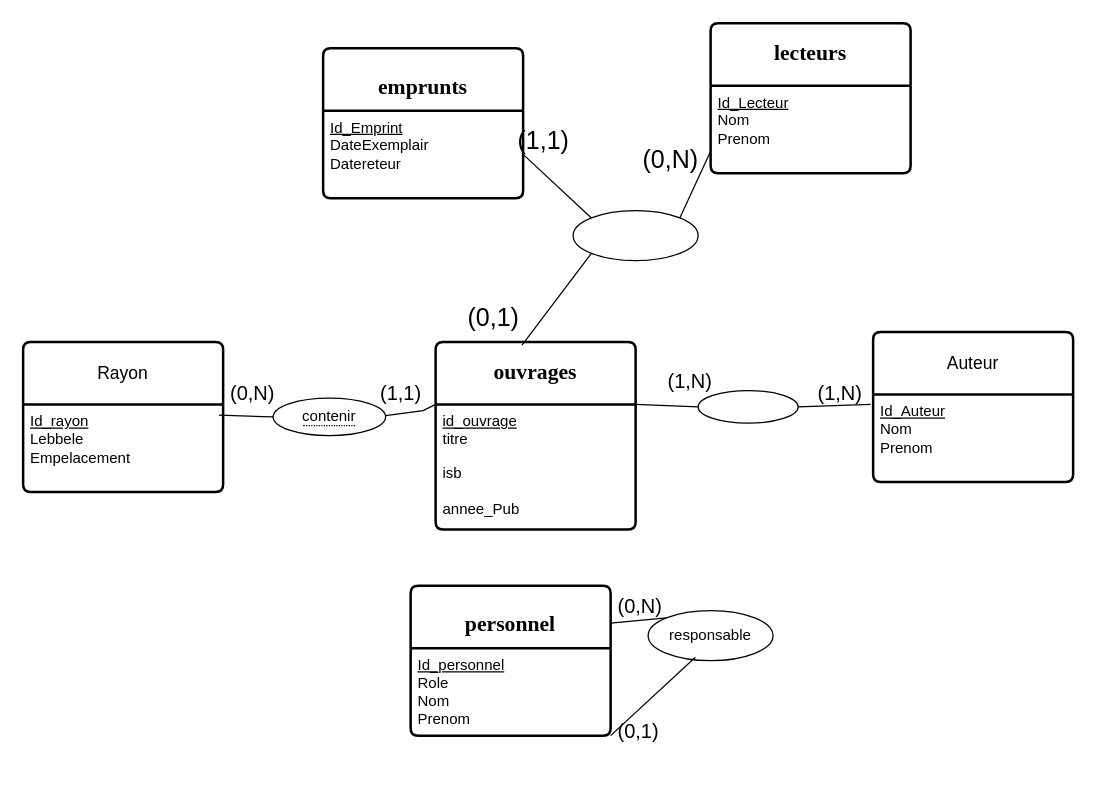
This 1095x785 diagram has some shape labels left out. Here are the shapes that lost their labels. From the top down, the centre of each, then its label:
At (635,235): "Effectu".
At (747,406): "Ecrire".
